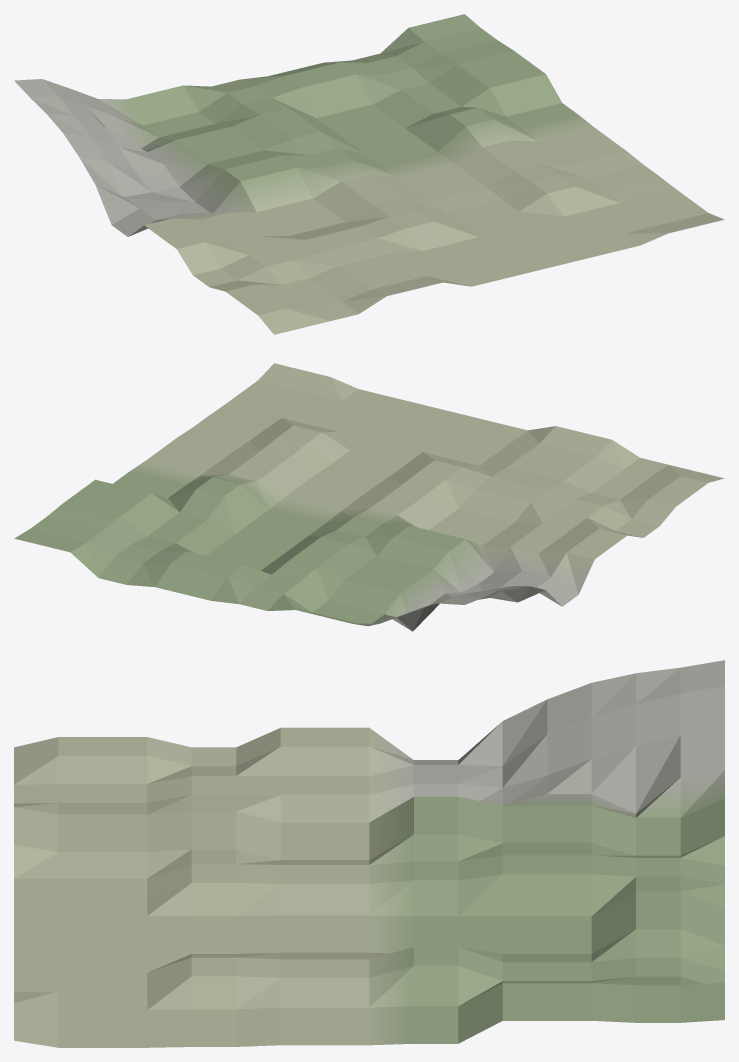
3 renders of one model, top to bottom at view 1: azimuth 30°, elevation 25°; view 2: azimuth 150°, elevation 25°; view 3: azimuth 270°, elevation 25°, orthographic. The views are drawn at different scales.
Bounding box in the file's own units: 32 × 4.97 × 32.
